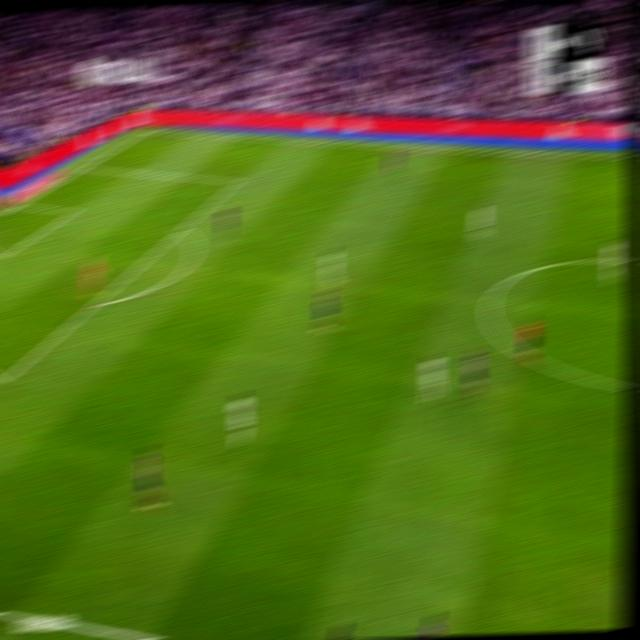bigarea_top_inner: (230, 173, 244, 186)
bottom_arc_area_intersection: (86, 296, 102, 311)
corner: (140, 124, 156, 134)
halfcircle_bottom: (622, 372, 633, 401)
smallarea_top_inner: (67, 207, 78, 214)
top_arc_area_intersection: (174, 221, 189, 235)
